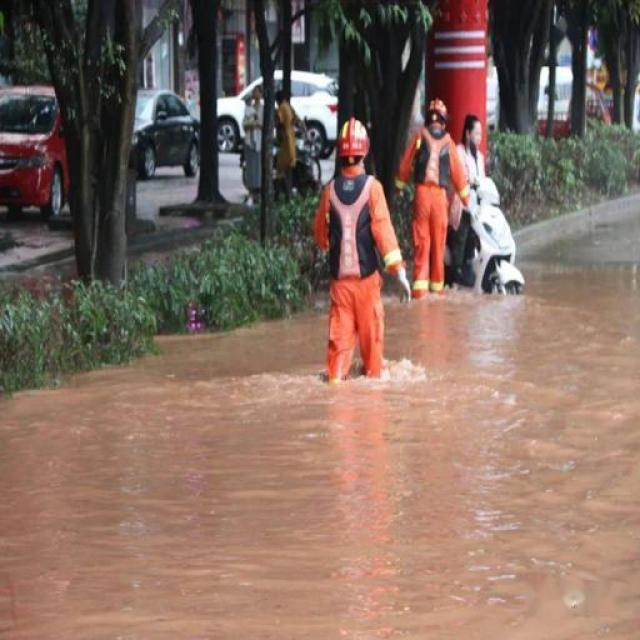rescuer: (311, 112, 398, 386), (402, 91, 456, 307)
